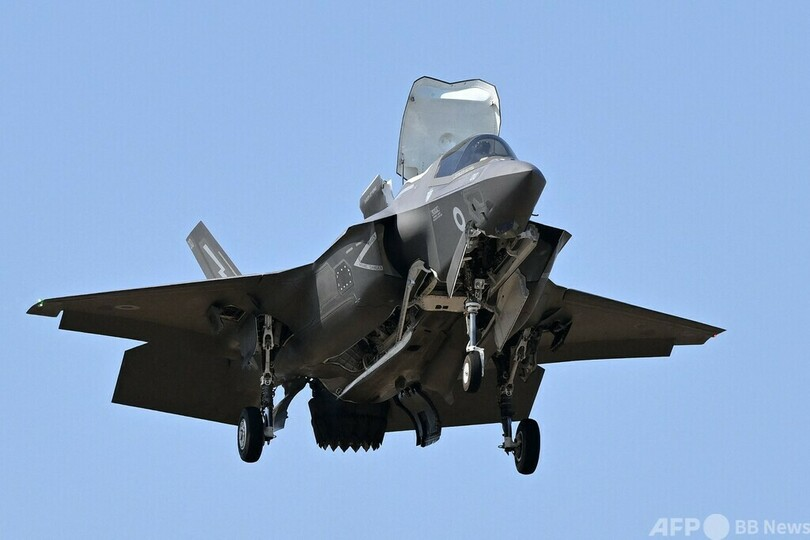F35: (24, 69, 731, 481)
